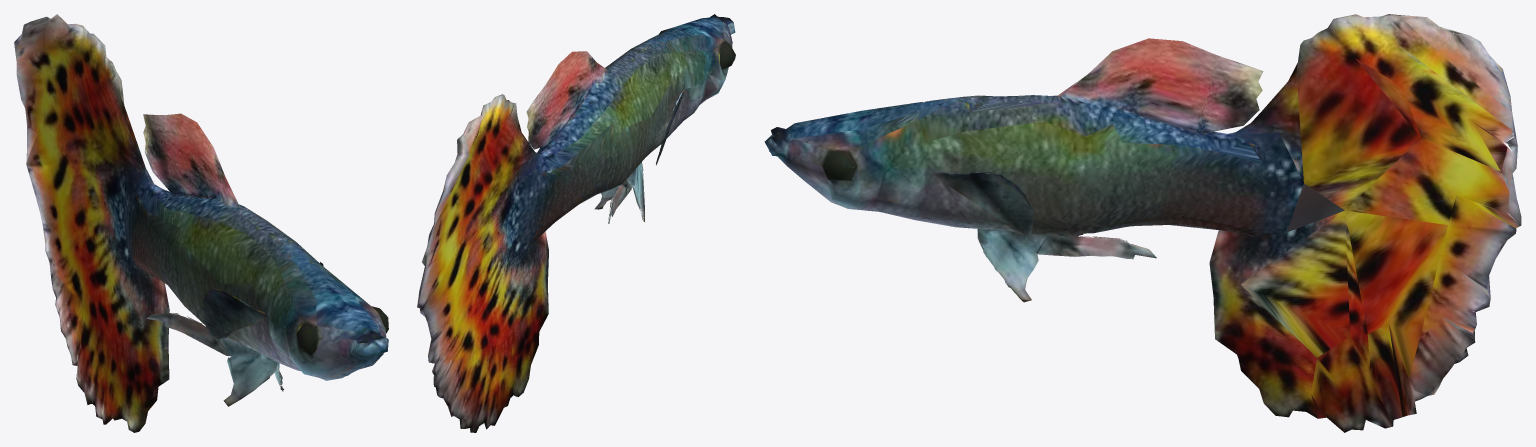
The model's file is guppy.lo.glb.
3 views of the same model, side by side, from view 1: azimuth 30°, elevation 25°; view 2: azimuth 150°, elevation 25°; view 3: azimuth 270°, elevation 25° (orthographic). The views are drawn at different scales.
Parts seen in each view (by area): view 1: geometry_0.001; view 2: geometry_0.001; view 3: geometry_0.001.
Part boxes in pixels (bbox=[...]): geometry_0.001: bbox=[14, 14, 388, 432]; geometry_0.001: bbox=[417, 14, 735, 432]; geometry_0.001: bbox=[764, 14, 1521, 432].
Bounding box in the file's own units: 0.00585 × 0.0201 × 0.0332.
Materials: 2 (2 with a texture image).
